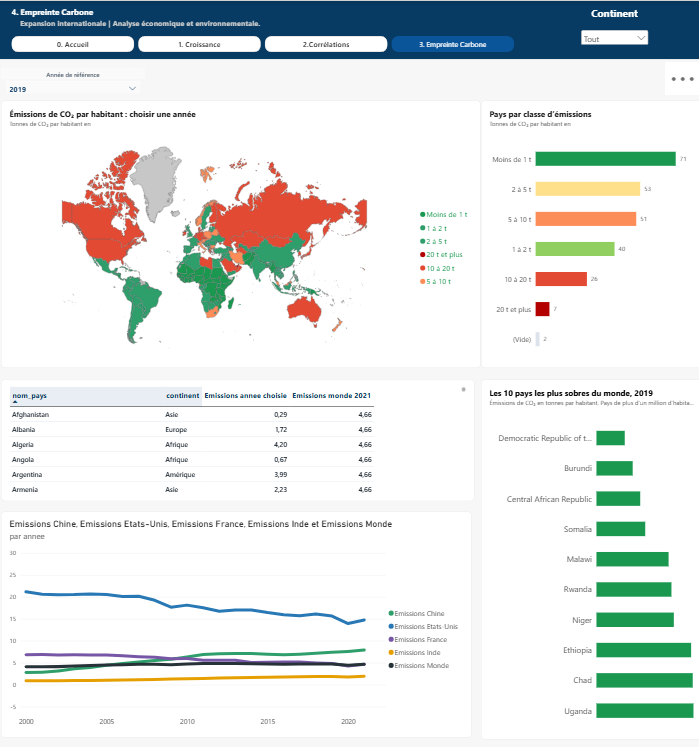

This screenshot's page, from the dashboard's own definition file:
{"tool":"powerbi","page":{"name":"3. Empreinte Carbone","canvas":[1400,1500],"ordinal":3},"visuals":[{"type":"actionButton","box":[0,0,100,40],"z":0},{"type":"shape","box":[0,0,1400,118.3],"z":1000},{"type":"textbox","box":[27,12,500,40],"z":2000},{"type":"textbox","box":[23.3,36.7,600,22],"z":3000},{"type":"group","id":"g1","title":"Groupe 2","box":[1155,13.3,143.3,76.7],"z":4000},{"type":"shapeMap","fields":{"Category":["dim_pays.code_iso"],"Series":["fait_indicateurs_pays_annee.Classe emissions"]},"box":[6,200,954,532],"z":5000},{"type":"pageNavigator","box":[28,73,1000,32],"z":6000},{"type":"clusteredBarChart","title":"Pays par classe d’émissions","fields":{"Category":["fait_indicateurs_pays_annee.Classe emissions"],"Y":["fait_indicateurs_pays_annee.Nombre pays emissions"]},"box":[960,200,440,532],"z":7000},{"type":"lineChart","title":"Émissions de CO₂ par habitant depuis 2000 : grands pays et monde","fields":{"Category":["dim_annee.annee"],"Y":["fait_indicateurs_pays_annee.Emissions Chine","fait_indicateurs_pays_annee.Emissions Etats-Unis","fait_indicateurs_pays_annee.Emissions France","fait_indicateurs_pays_annee.Emissions Inde","fait_indicateurs_pays_annee.Emissions Monde"]},"box":[6,1018,936,450],"z":8000},{"type":"tableEx","fields":{"Values":["dim_pays.nom_pays","dim_pays.continent","fait_indicateurs_pays_annee.Emissions annee choisie","fait_indicateurs_pays_annee.Emissions monde 2021"]},"box":[6,755,942,242],"z":9000},{"type":"clusteredBarChart","fields":{"Category":["dim_pays.nom_pays"],"Y":["Avg(fait_indicateurs_pays_annee.emissions_t_hab)"]},"box":[960,754,440,716],"z":10000},{"type":"slicer","title":"Année de  référence","fields":{"Values":["Annee Debut.Annee debut"]},"box":[6,134,286,52],"z":11000},{"type":"slicer","title":"Continent","fields":{"Values":["dim_pays.continent"]},"box":[1155,13.3,143.3,76.7],"z":11002,"group":"g1"}]}

Visuals, with their boxes in screenshot pixels (x1, y1, x2, y2), scaled from the page's 1400x1500 canvas onto the 699x747 screenshot:
actionButton: <region>0, 0, 50, 20</region>
shape: <region>0, 0, 698, 59</region>
textbox: <region>13, 6, 263, 26</region>
textbox: <region>12, 18, 311, 29</region>
"Groupe 2" group: <region>577, 7, 648, 45</region>
shapeMap - dim_pays.code_iso x fait_indicateurs_pays_annee.Classe emissions: <region>3, 100, 479, 365</region>
pageNavigator: <region>14, 36, 513, 52</region>
"Pays par classe d’émissions" clusteredBarChart: <region>479, 100, 698, 365</region>
"Émissions de CO₂ par habitant depuis 2000 : grands pays et monde" lineChart: <region>3, 507, 470, 731</region>
tableEx - dim_pays.nom_pays x dim_pays.continent: <region>3, 376, 473, 497</region>
clusteredBarChart - dim_pays.nom_pays x Avg(fait_indicateurs_pays_annee.emissions_t_hab): <region>479, 375, 698, 732</region>
"Année de  référence" slicer: <region>3, 67, 146, 93</region>
"Continent" slicer: <region>577, 7, 648, 45</region>
